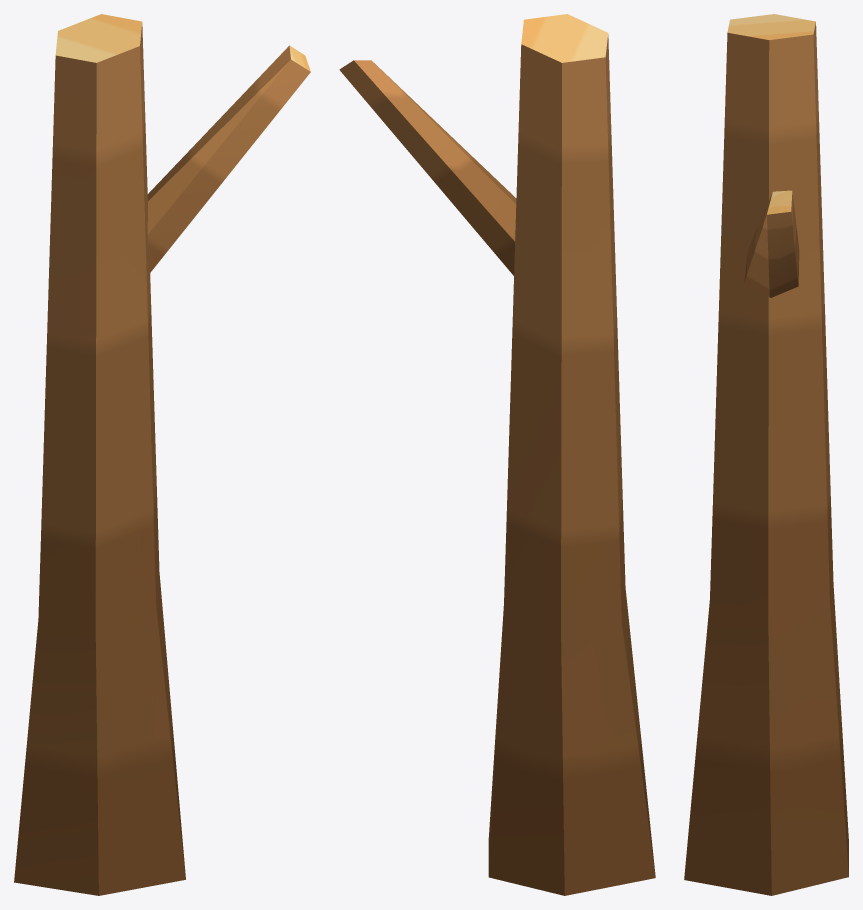
The model's file is tree_002.fbx.
3 views of the same model, side by side, from view 1: azimuth 30°, elevation 25°; view 2: azimuth 150°, elevation 25°; view 3: azimuth 270°, elevation 25° (orthographic).
Parts seen in each view (by area): view 1: tree.002; view 2: tree.002; view 3: tree.002.
Boxes of the visible parts, <box> form: tree.002: <box>14,14,310,895</box>; tree.002: <box>339,14,655,895</box>; tree.002: <box>684,14,848,895</box>.
Bounding box in the file's own units: 14 × 36.44 × 6.48.
